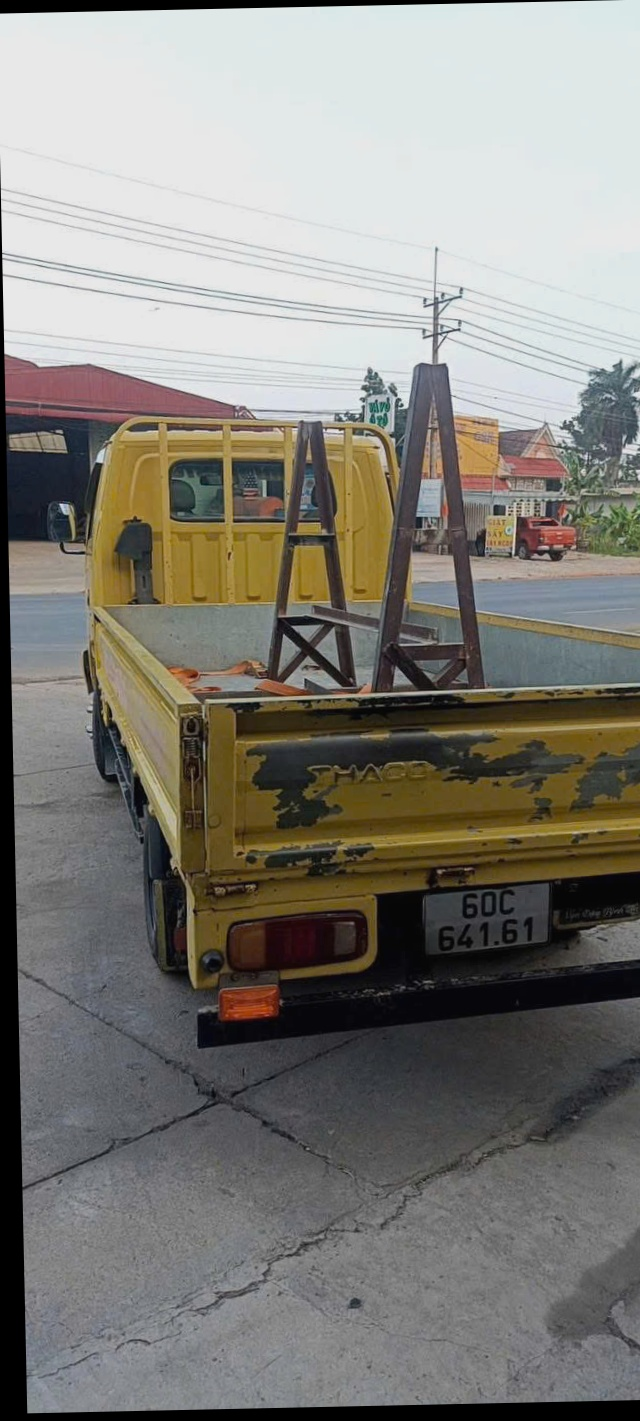Bien-so: (376, 890, 558, 984)
